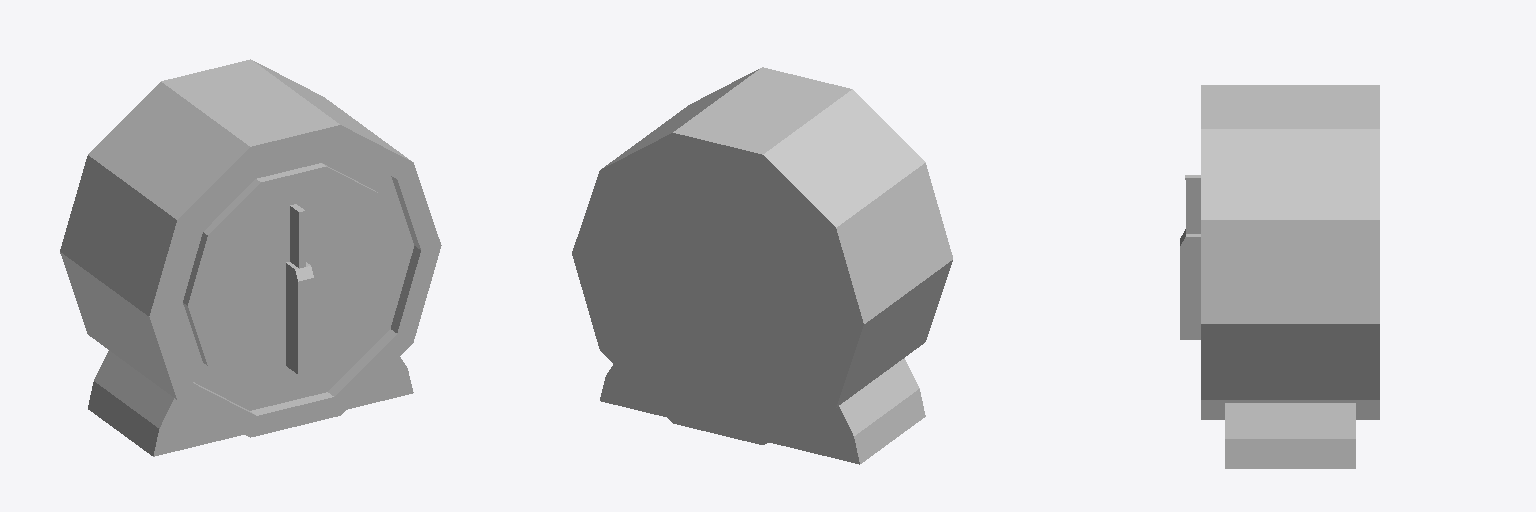
Rendered from Character_Timer.obj.
The picture shows the model from 3 angles: view 1: azimuth 30°, elevation 25°; view 2: azimuth 150°, elevation 25°; view 3: azimuth 270°, elevation 25°; orthographic projection.
Bounding box in the file's own units: 2 × 1.95 × 1.19.